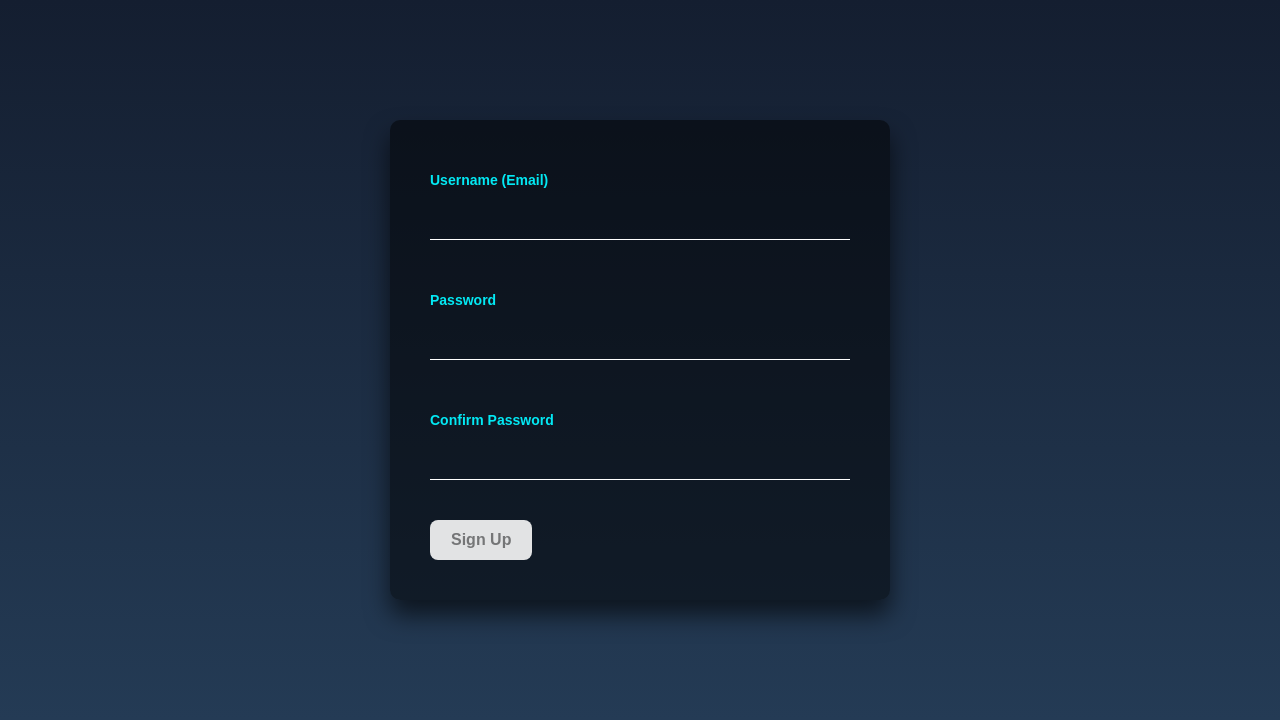
Test case: Signup › Form Field Validation › invalid email error should show when email input is not valid
Type "test@test" into the field labelled "Username (Email)" at (640, 220), box [430, 201, 850, 240]
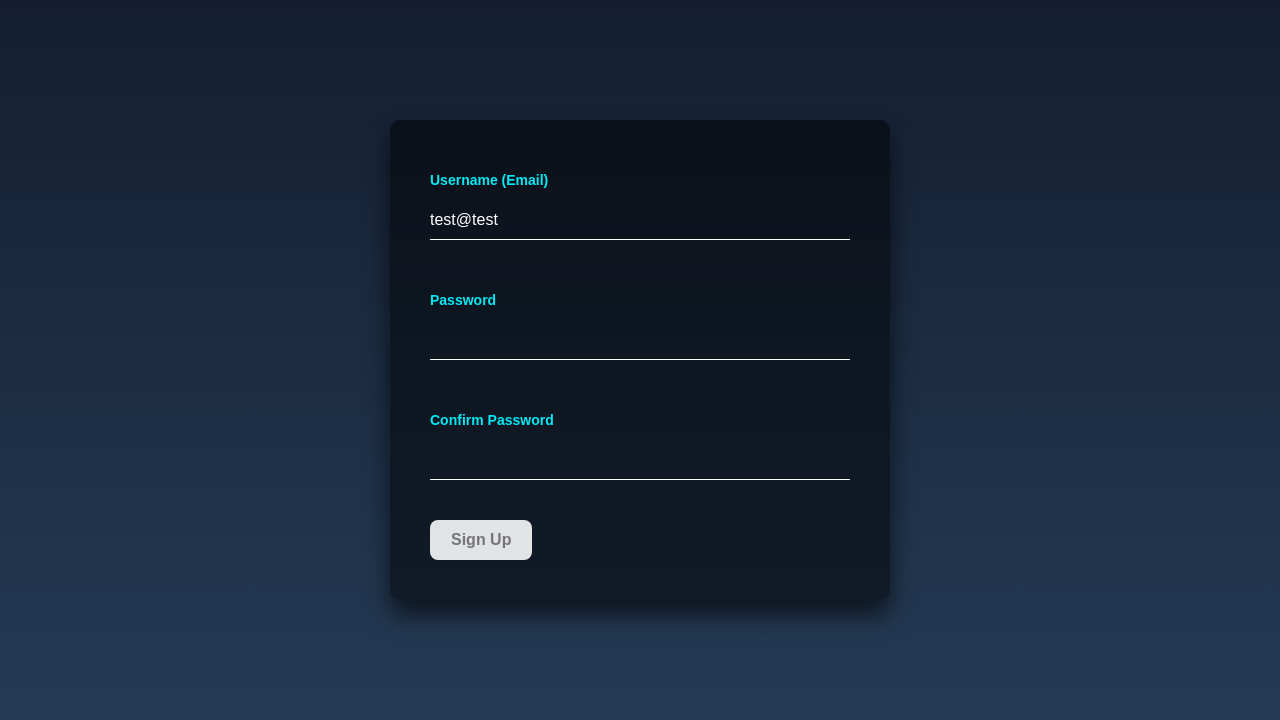
Type "Pw123!" into the password field labelled "Password" at (640, 340), box [430, 321, 850, 360]
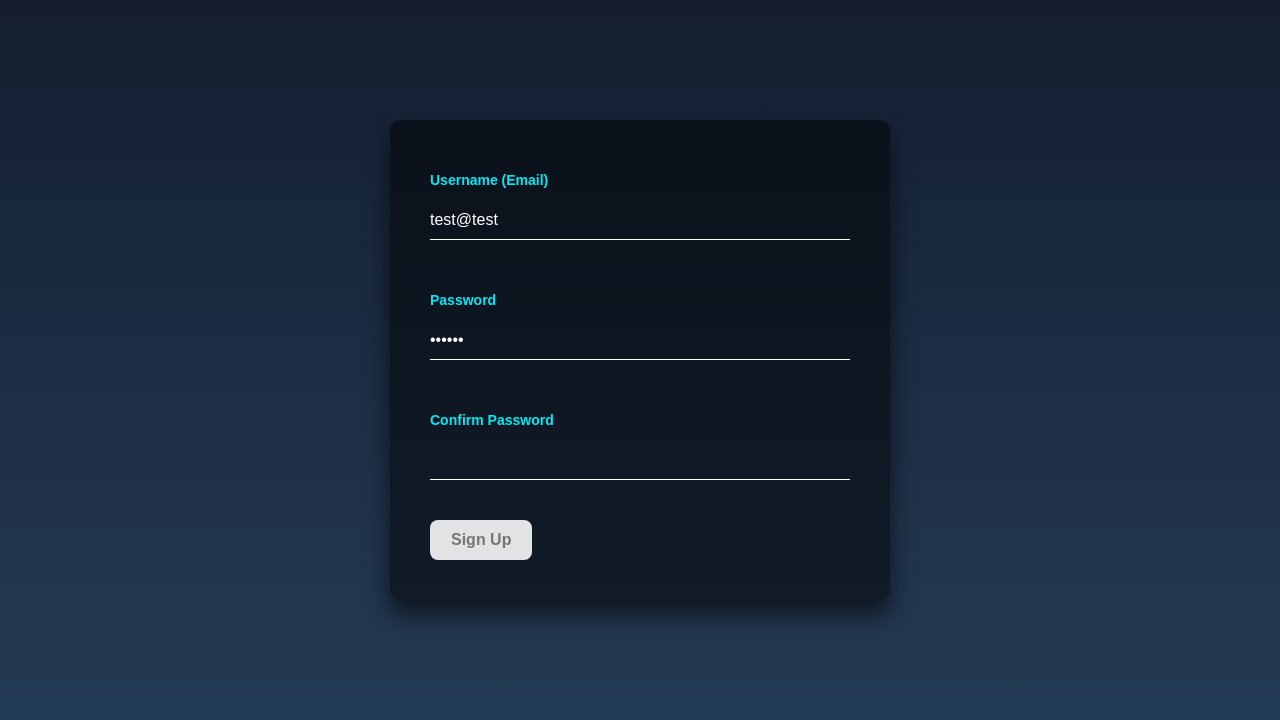
Type "Pw123!" into the password field labelled "Confirm Password" at (640, 460), box [430, 441, 850, 480]
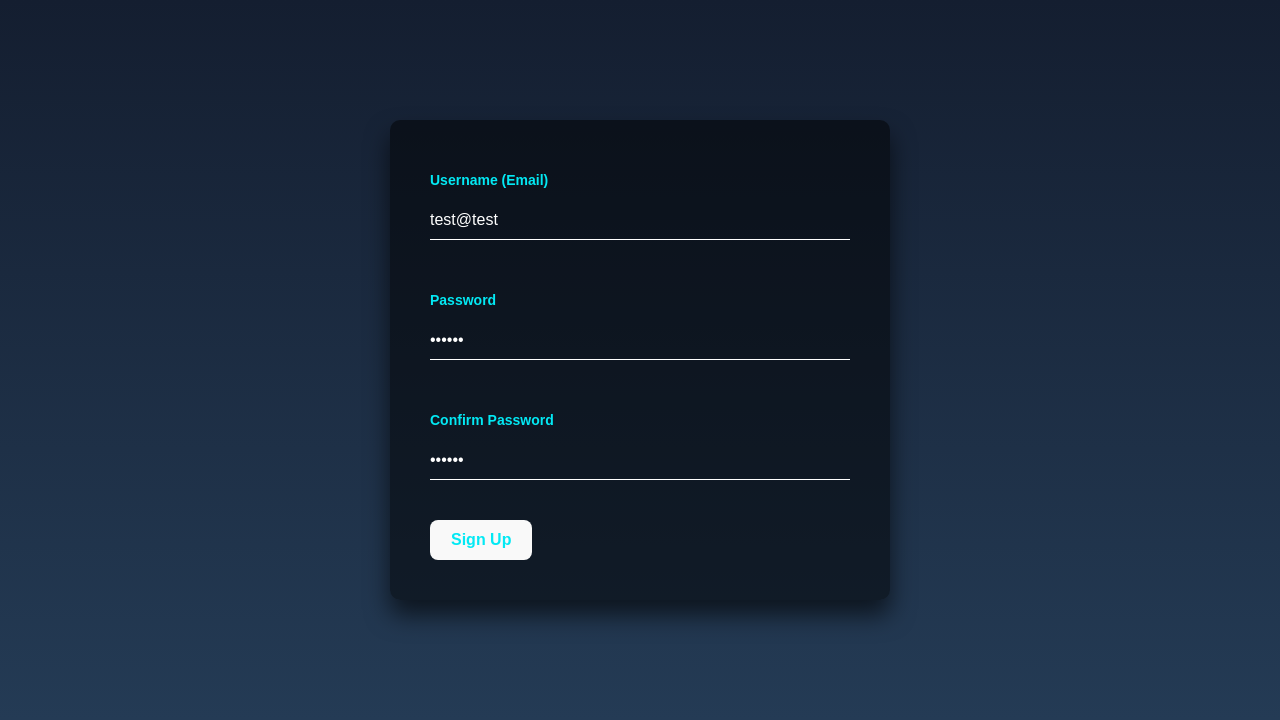
Click the button "Sign Up" at (481, 540), box [430, 520, 532, 560]
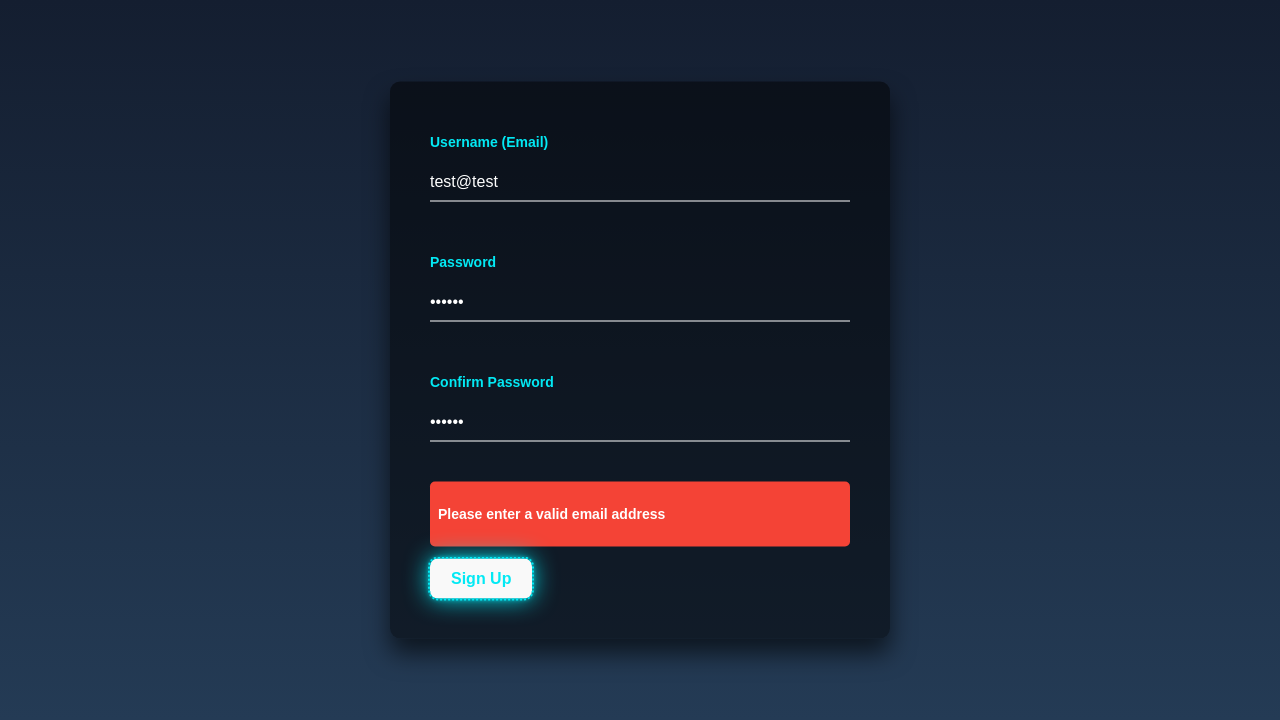
Check: the text "Please enter a valid email address" is shown, box [438, 506, 665, 522]
